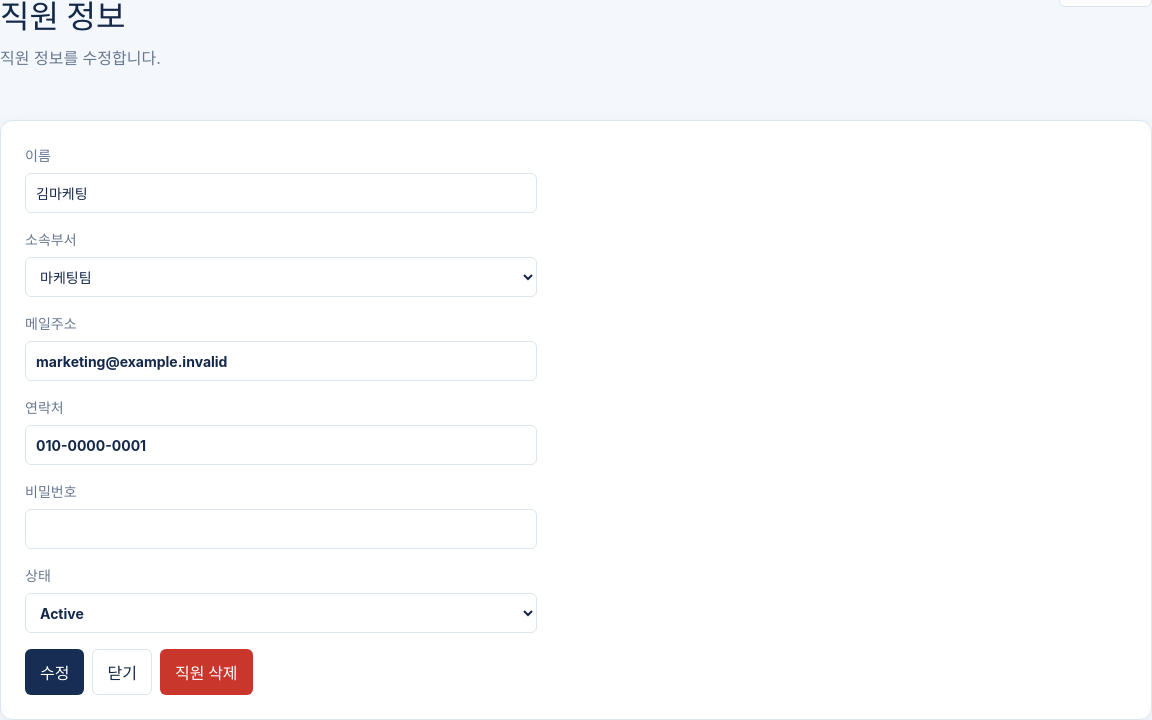
Test case: EmployeeDetailPage › shows the delete action for an administrator and returns to the employee list
(page scrolled)
Click the button "직원 삭제" at (206, 672), box [160,649,253,695]
(page scrolled)
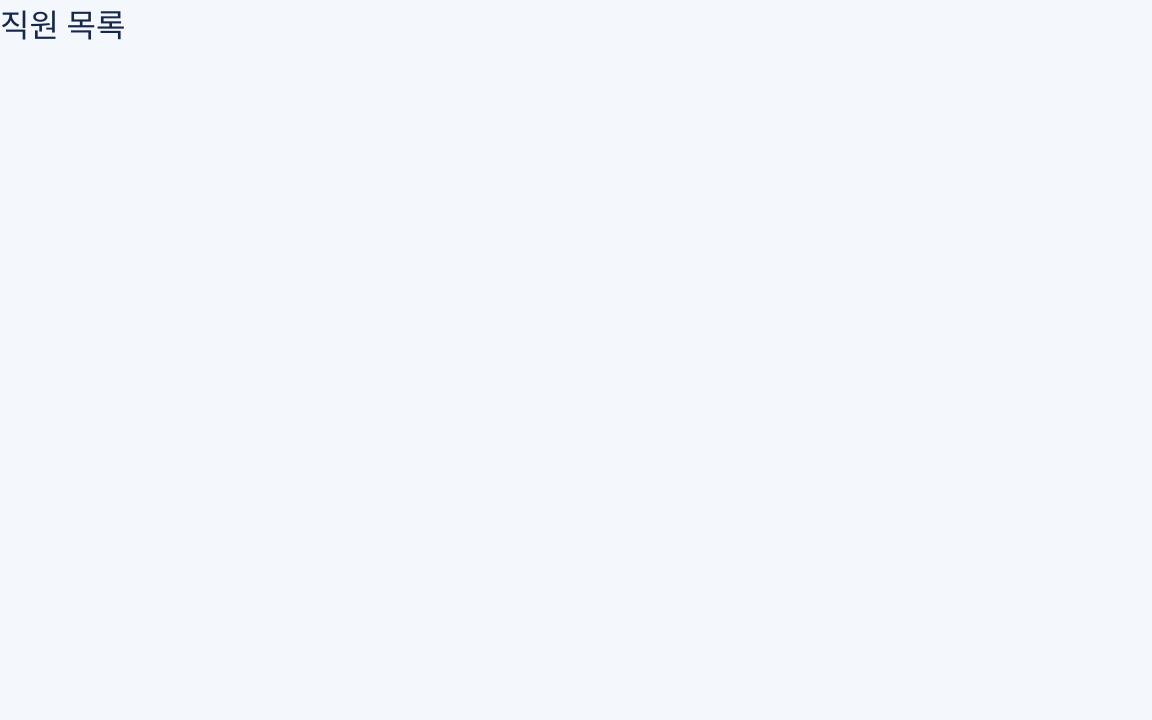
Result: the heading "직원 목록" is shown at [0,6,125,45]
